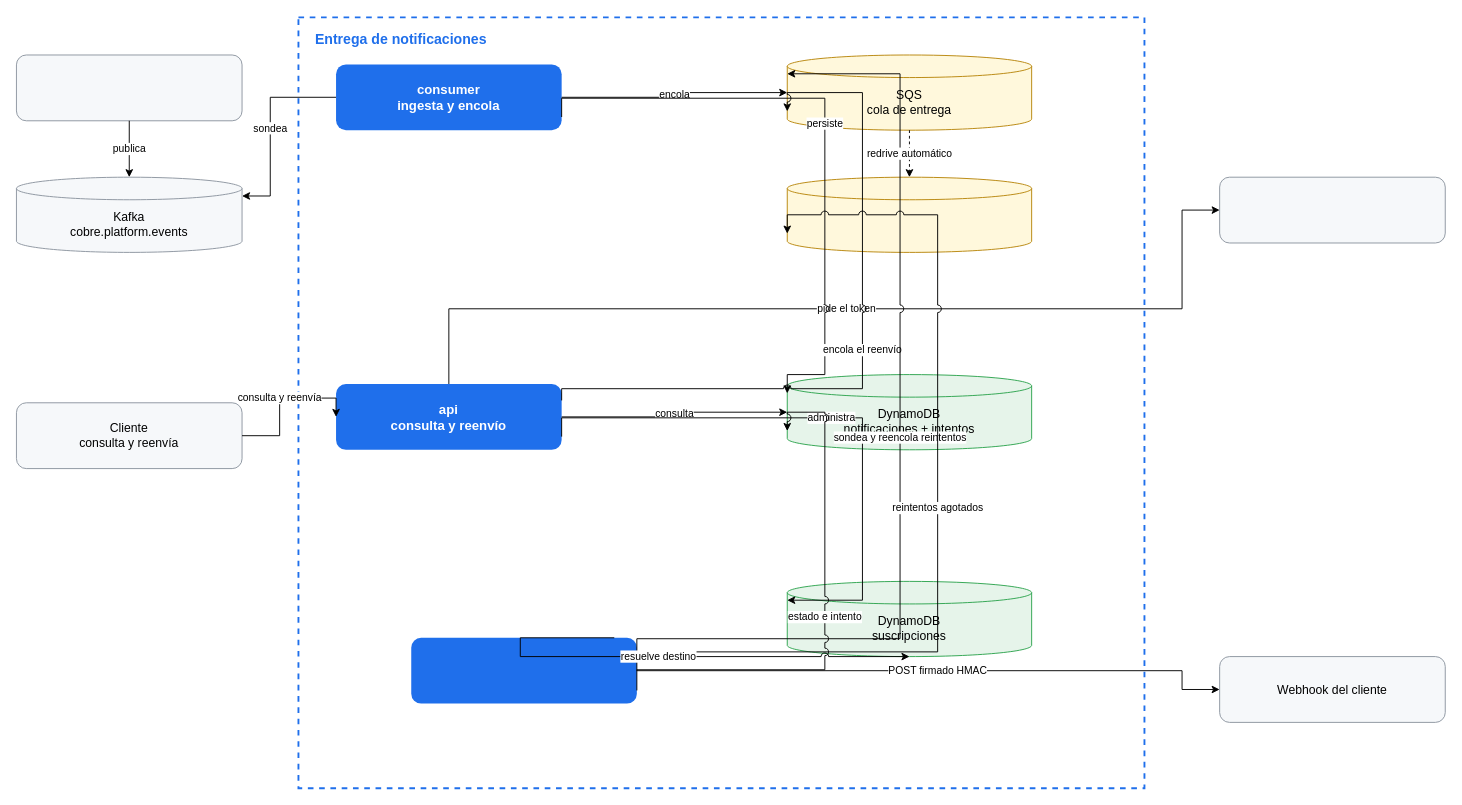
This 1462x805 diagram has some shape labels left out. Here are the shapes that lost their labels. From the top down, the centre of each, then its label:
the point at 129,87: Servicios de la plataforma pagos · transferencias · saldos
the point at 909,214: SQS DLQ
the point at 1332,209: Proveedor de identidad OIDC
the point at 523,670: worker entrega y reintenta
